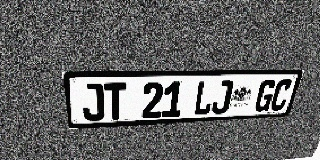1: (161, 81, 184, 117)
2: (142, 82, 164, 118)
C: (268, 79, 294, 111)
G: (253, 80, 278, 112)
J: (80, 83, 105, 121), (210, 80, 234, 114)
L: (193, 81, 216, 115)
T: (104, 83, 126, 120)
